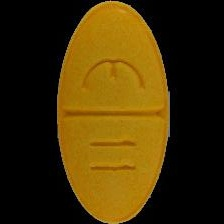60429-172: (0, 0, 224, 224)
